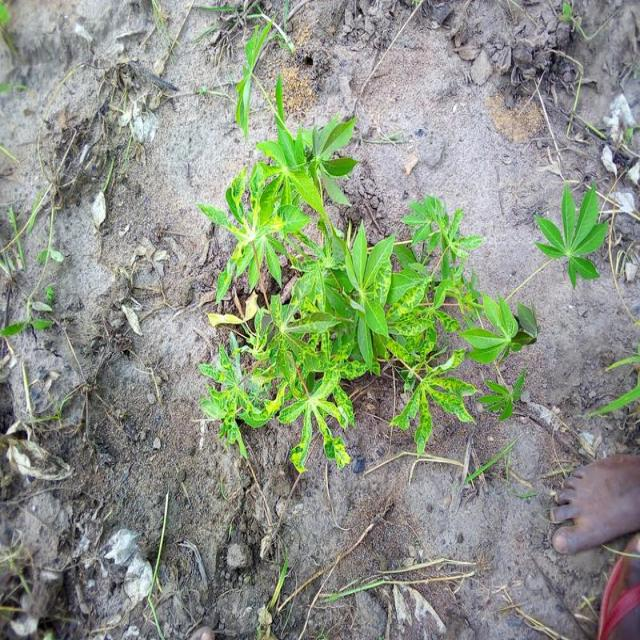cassava leaf: (194, 63, 537, 474), (532, 181, 610, 289)
